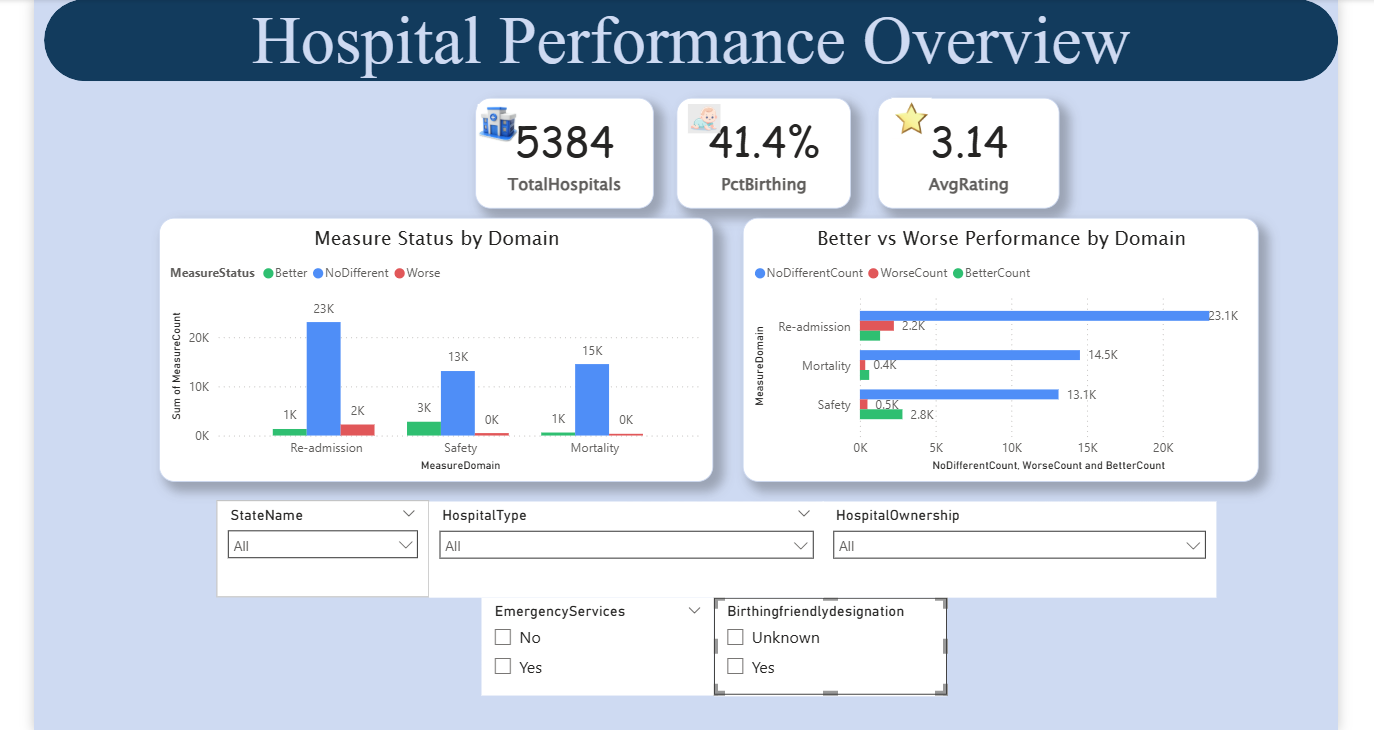

The page's visual inventory and layout, read from the dashboard file:
{"tool":"powerbi","page":{"name":"Overview","canvas":[1280,720],"ordinal":0},"visuals":[{"type":"card","fields":{"Values":["Hospital.TotalHospitals"]},"box":[433.1,96.5,174.9,108.6],"z":0},{"type":"card","fields":{"Values":["Hospital.AvgRating"]},"box":[828.8,96.5,178.6,108.6],"z":1000},{"type":"card","fields":{"Values":["Hospital.PctBirthing"]},"box":[631,96.5,171.3,108.6],"z":2000},{"type":"clusteredColumnChart","title":"Measure Status by Domain","fields":{"Category":["FactPerformance.MeasureDomain"],"Y":["Sum(FactPerformance.MeasureCount)"],"Series":["FactPerformance.MeasureStatus"]},"box":[123.1,214.7,544.1,259.4],"z":3000},{"type":"clusteredBarChart","title":"Better vs Worse Performance by Domain","fields":{"Category":["FactPerformance.MeasureDomain"],"Y":["DAX_Measures.NoDifferentCount","DAX_Measures.WorseCount","DAX_Measures.BetterCount"]},"box":[696.1,214.7,506.7,259.4],"z":4000},{"type":"slicer","fields":{"Values":["Hospital.Birthingfriendlydesignation"]},"box":[667.2,587.5,228,96.5],"z":5000},{"type":"slicer","fields":{"Values":["Hospital.EmergencyServices"]},"box":[439.3,587.7,228.2,95.7],"z":6000},{"type":"slicer","fields":{"Values":["Dim_State.StateName"]},"box":[178.6,492.2,208.7,95.3],"z":7000},{"type":"slicer","fields":{"Values":["Dim_HospitalType.HospitalType"]},"box":[387.3,493.4,387.3,94.1],"z":8000},{"type":"slicer","fields":{"Values":["Hospital.HospitalOwnership"]},"box":[774.5,493.4,386.1,94.1],"z":9000},{"type":"shape","title":"HOSPITAL PERFORMANCE OVERVIEW","box":[9.7,0,1270.4,80.8],"z":10000},{"type":"image","box":[433.1,102.5,44.6,39.8],"z":11500},{"type":"image","box":[828.8,96.5,66.4,39.8],"z":12502},{"type":"image","box":[631,102.5,54.3,29],"z":14002}]}

Visuals, with their boxes on the page's 1280x720 design canvas (x1, y1, x2, y2). These are canvas units, not pixel positions in the 1374x730 screenshot, which may show the page scaled, cropped or inside an application window:
card - Hospital.TotalHospitals: (433,96,608,205)
card - Hospital.AvgRating: (829,96,1007,205)
card - Hospital.PctBirthing: (631,96,802,205)
"Measure Status by Domain" clusteredColumnChart: (123,215,667,474)
"Better vs Worse Performance by Domain" clusteredBarChart: (696,215,1203,474)
slicer - Hospital.Birthingfriendlydesignation: (667,588,895,684)
slicer - Hospital.EmergencyServices: (439,588,668,683)
slicer - Dim_State.StateName: (179,492,387,588)
slicer - Dim_HospitalType.HospitalType: (387,493,775,588)
slicer - Hospital.HospitalOwnership: (774,493,1161,588)
"HOSPITAL PERFORMANCE OVERVIEW" shape: (10,0,1280,81)
image: (433,102,478,142)
image: (829,96,895,136)
image: (631,102,685,132)
